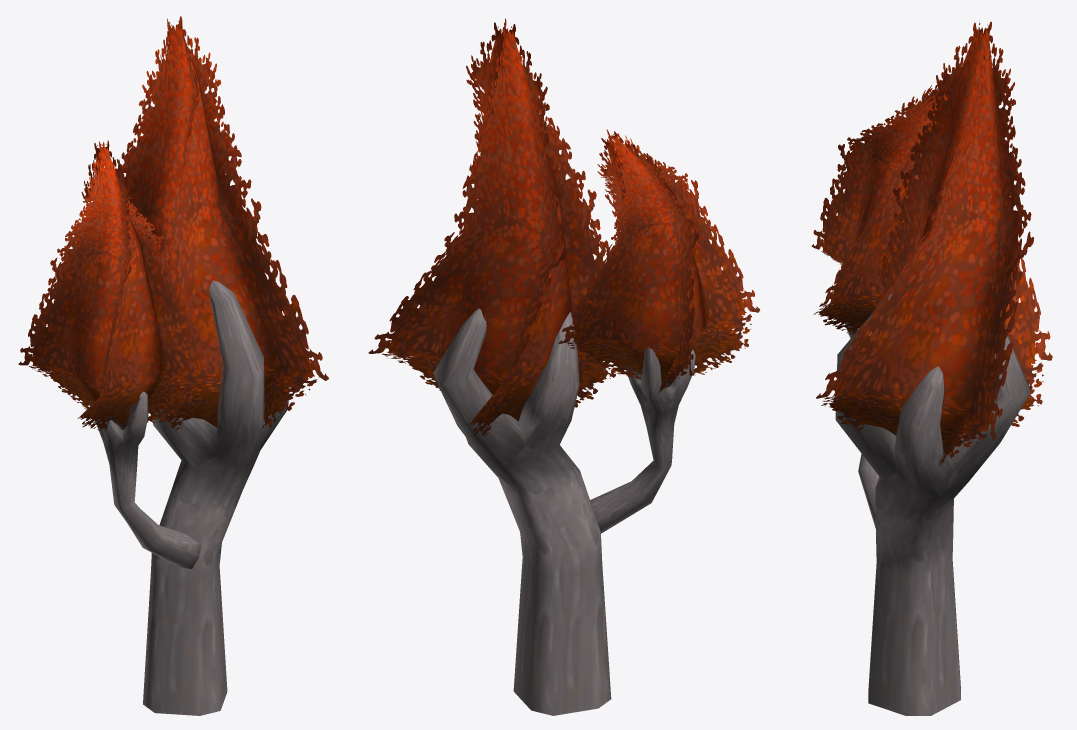
The model's file is tree_cypressRedC.fbx.
3 views of the same model, side by side, from view 1: azimuth 30°, elevation 25°; view 2: azimuth 150°, elevation 25°; view 3: azimuth 270°, elevation 25° (orthographic). The views are drawn at different scales.
Visible parts, largest first — view 1: tree_cypress_redC; view 2: tree_cypress_redC; view 3: tree_cypress_redC.
Boxes of the visible parts, bbox=[...] form: tree_cypress_redC: bbox=[18, 16, 328, 715]; tree_cypress_redC: bbox=[368, 18, 759, 715]; tree_cypress_redC: bbox=[811, 21, 1052, 715].
Size of the model in its own units: 494 by 994 by 354.
Materials: 2 (2 with a texture image).
